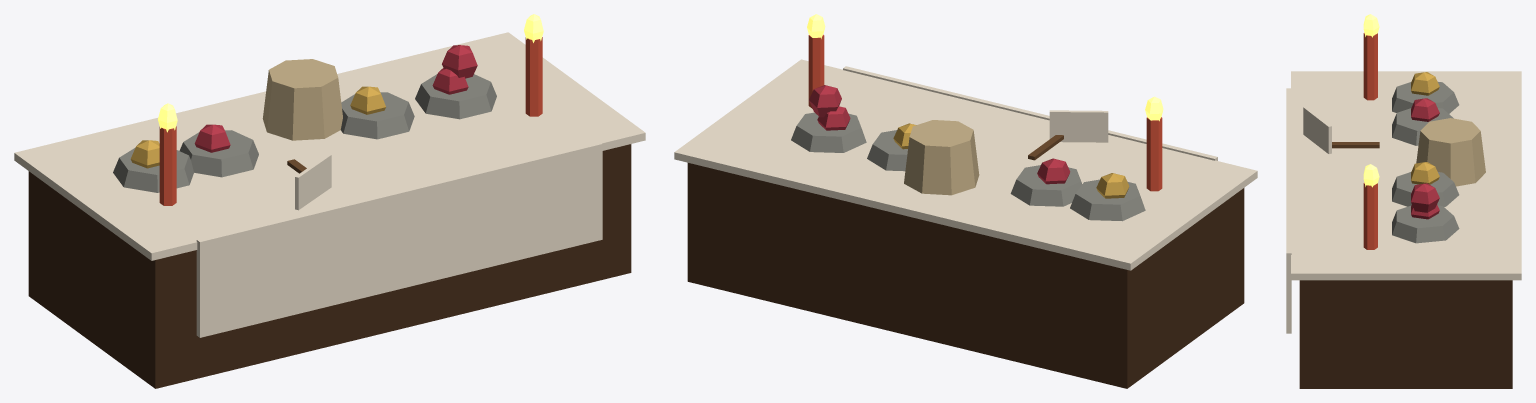
Rendered from prop_arena_gutsang.glb.
3 views of the same model, side by side, from view 1: azimuth 30°, elevation 25°; view 2: azimuth 150°, elevation 25°; view 3: azimuth 270°, elevation 25° (orthographic). The views are drawn at different scales.
Visible parts, largest first — view 1: prop_arena_gutsang; view 2: prop_arena_gutsang; view 3: prop_arena_gutsang.
Boxes of the visible parts, <box> form: prop_arena_gutsang: <box>14,14,645,388</box>; prop_arena_gutsang: <box>674,14,1257,388</box>; prop_arena_gutsang: <box>1286,14,1521,388</box>.
Size of the model in its own units: 2.7 by 1.26 by 1.32.
